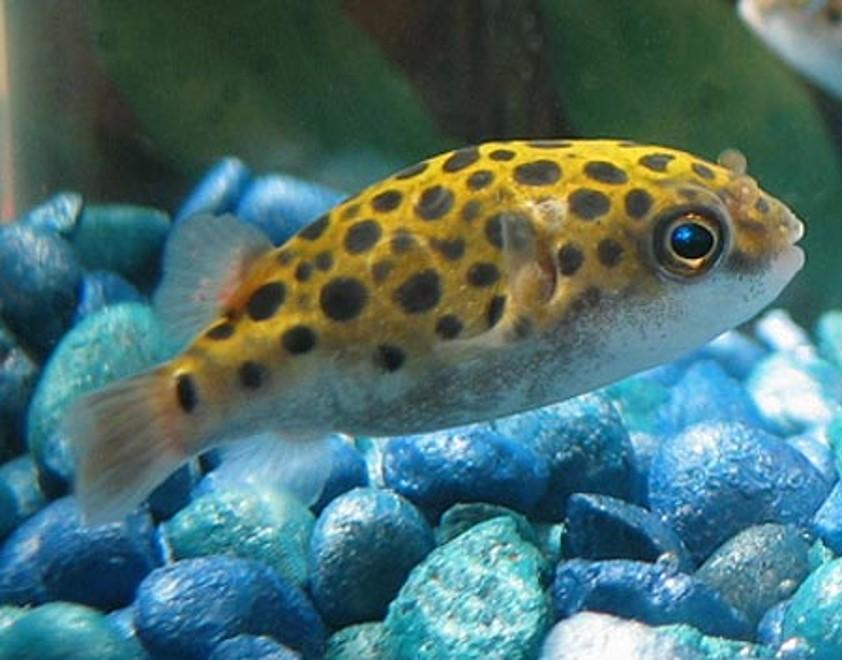Green Spotted Puffer: (64, 137, 809, 526)
